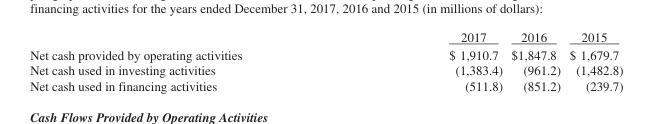table: (29, 29, 622, 92)
table column: (29, 29, 344, 92), (344, 29, 506, 92), (506, 29, 564, 92), (564, 29, 622, 92)
table column header: (29, 29, 622, 45)
table row: (29, 45, 622, 62), (29, 29, 622, 45), (29, 62, 622, 77), (29, 77, 622, 92)
